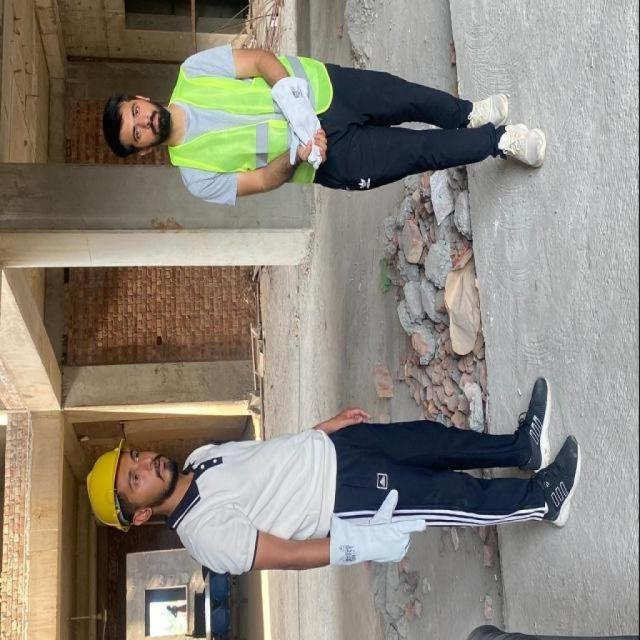Gloves-Detection: (326, 488, 429, 574), (265, 76, 329, 176)
